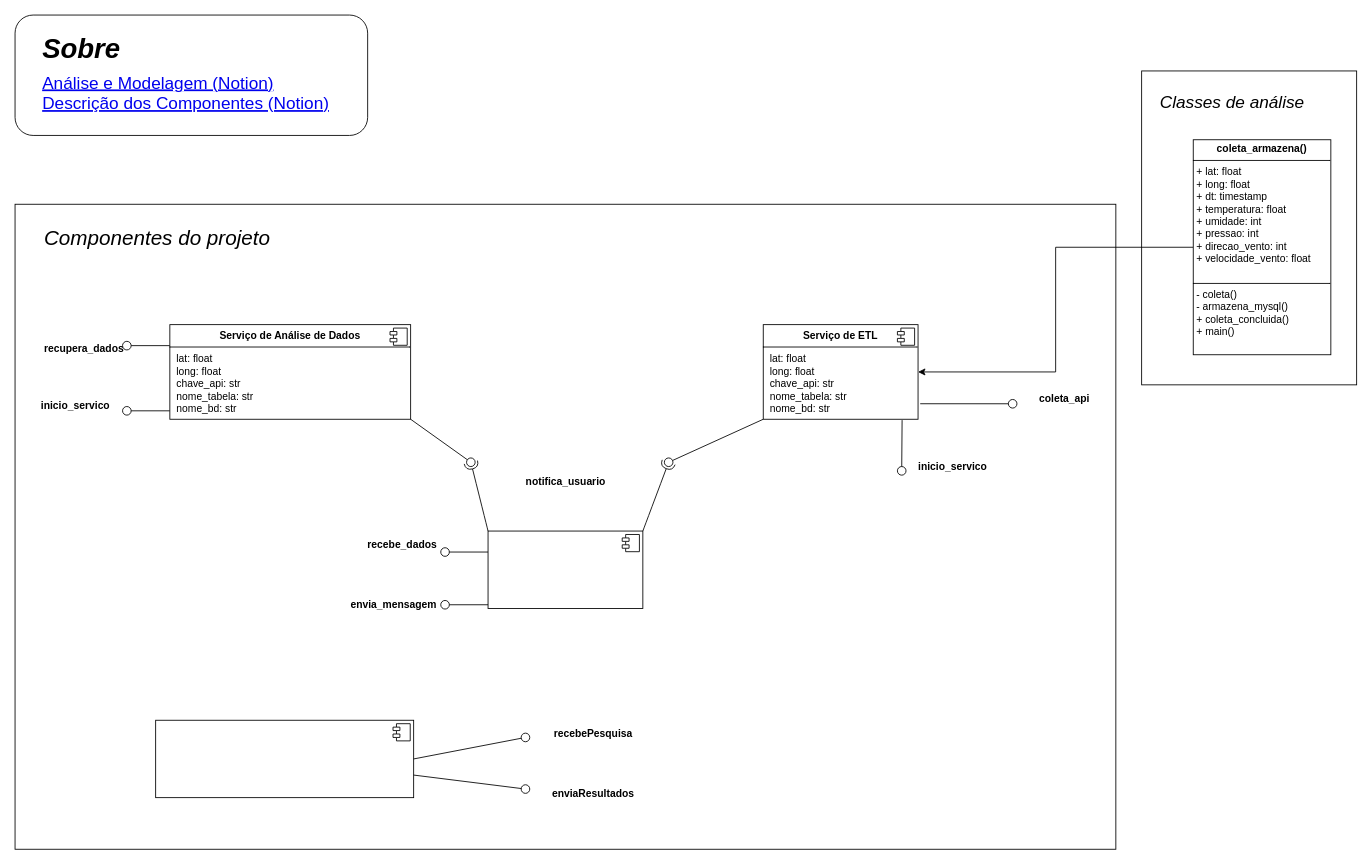
Some shapes in this 1372 by 864 pixel diagram are drawn without their labels. Each missing label, with the centre of its shape:
"Serviço de Consulta Meteorológica usuario: str termo_pesquisa: str" goes at point 284,758.
"Serviço de Notificação usuario: str mensagem: str" goes at point 565,569.
